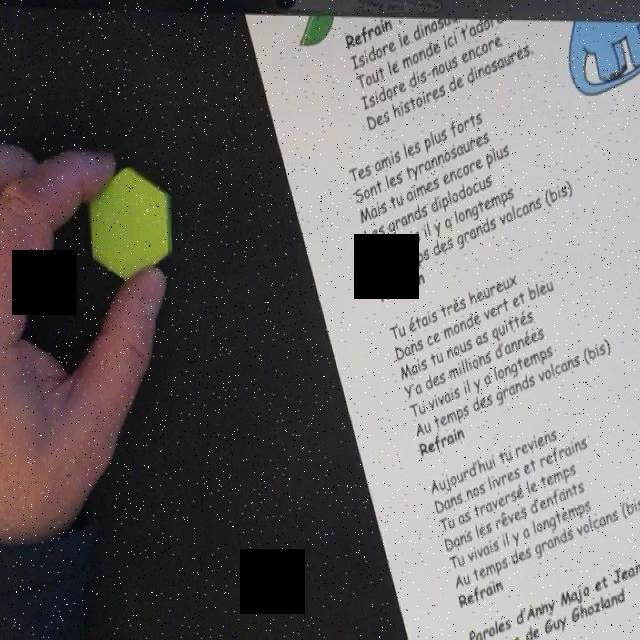hexagon: (89, 164, 174, 280)
